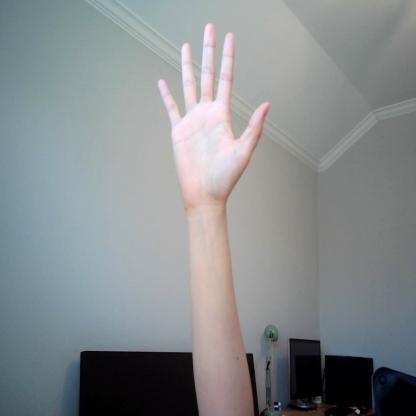five: (157, 20, 272, 210)
